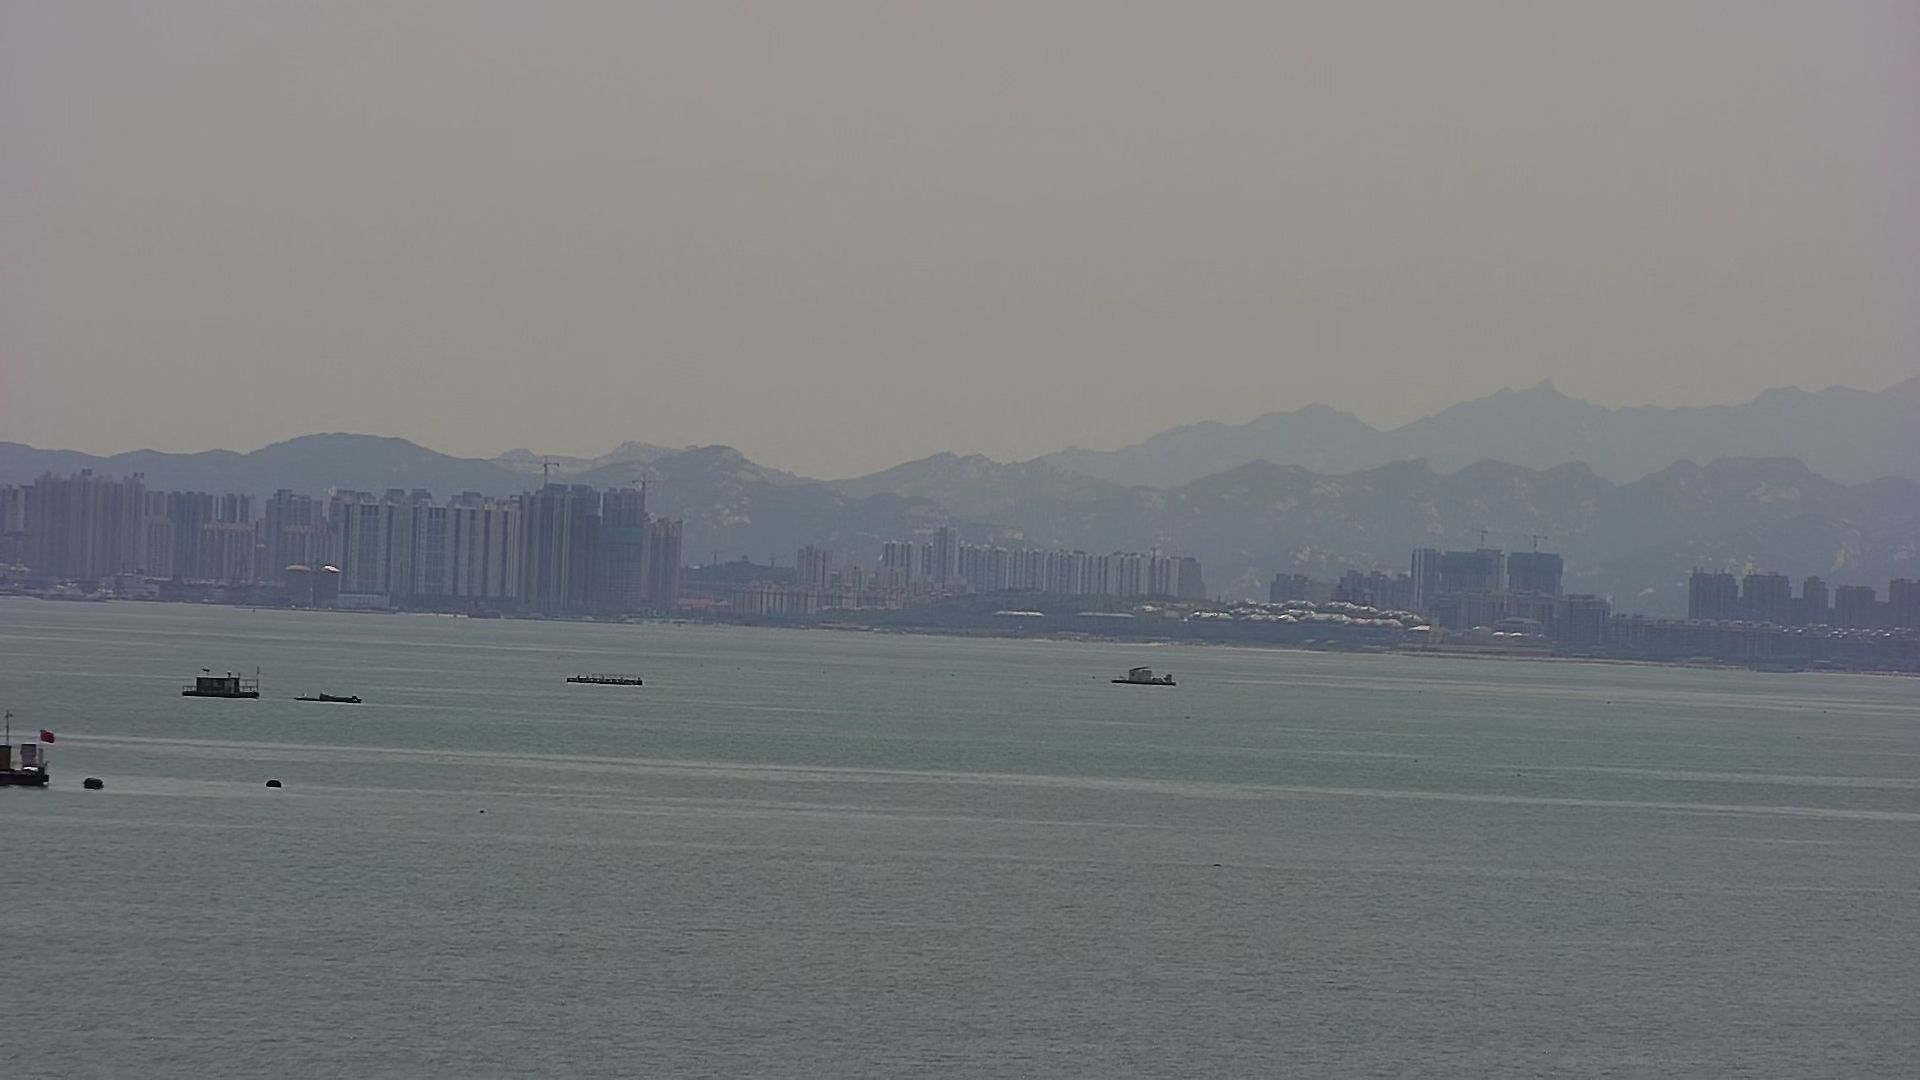ball: (84, 771, 103, 793), (266, 775, 289, 791)
boat: (295, 690, 363, 705)
platform: (1, 711, 58, 795), (185, 665, 264, 700), (1110, 665, 1182, 688), (566, 670, 649, 688)
